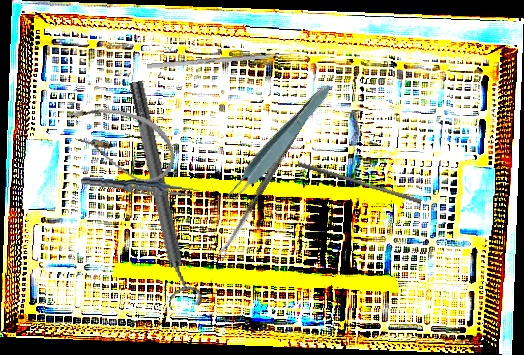Cannula: (57, 96, 184, 189)
Fixation Ring: (119, 77, 204, 312)
Pusher: (295, 161, 424, 205), (147, 50, 305, 69)
Surgical Spoon: (215, 99, 317, 261)
Tissue Forceps: (214, 78, 338, 215), (80, 173, 203, 201)
